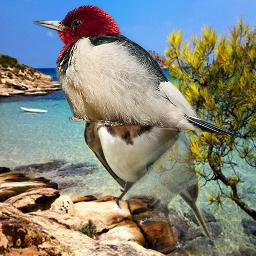Swallow: (84, 73, 212, 241)
Woodpecker: (32, 5, 237, 137)
